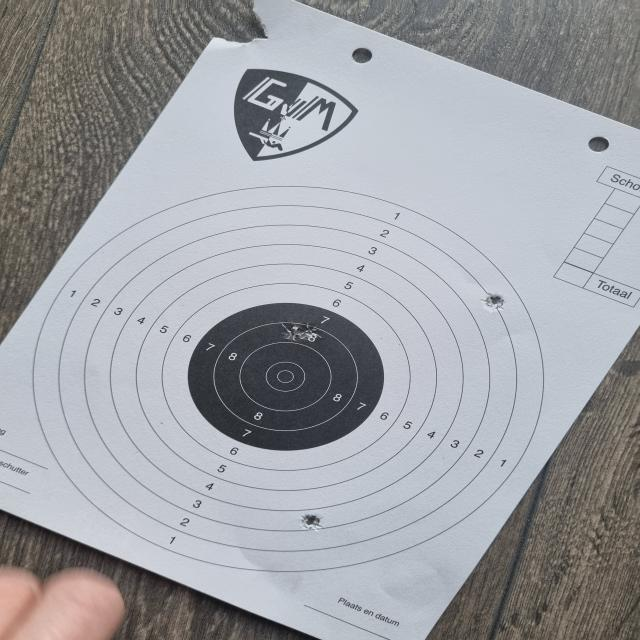2: (480, 293, 506, 311)
3: (299, 513, 324, 530)
7: (285, 323, 302, 342), (304, 325, 324, 341)
Target: (35, 183, 546, 574)
black_contour: (188, 302, 382, 453)
